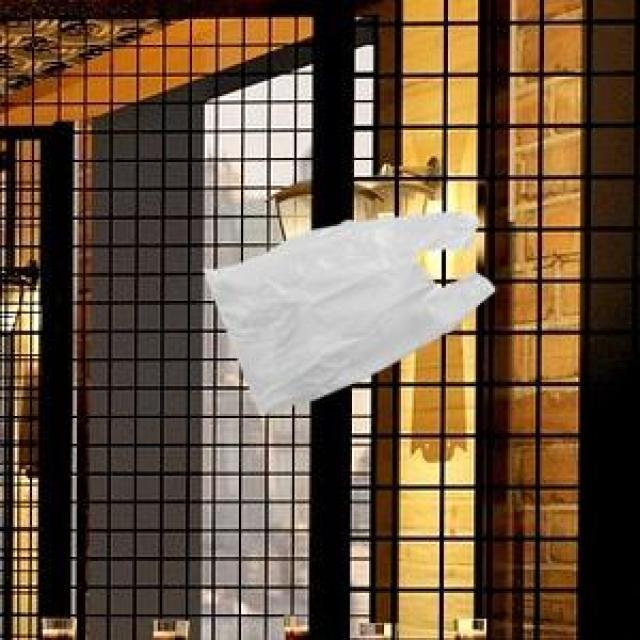waste: (209, 218, 495, 412)
